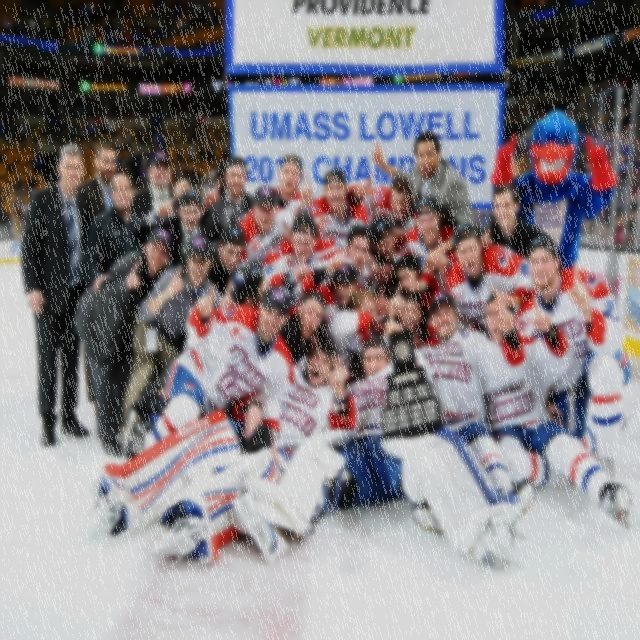pessoa: (228, 332, 524, 568), (90, 339, 362, 569), (482, 291, 640, 538), (121, 279, 295, 466), (411, 290, 536, 538), (515, 234, 632, 487), (486, 96, 640, 268), (70, 226, 174, 461), (119, 234, 222, 450), (19, 142, 92, 446), (370, 130, 482, 275), (72, 139, 122, 421), (442, 220, 532, 334), (76, 172, 146, 296), (261, 212, 345, 296), (128, 190, 214, 269), (296, 164, 370, 246), (398, 195, 459, 286), (478, 182, 552, 256), (236, 184, 296, 268), (129, 150, 181, 244), (311, 224, 378, 291), (177, 106, 230, 184), (301, 245, 358, 315), (200, 154, 256, 225), (280, 290, 328, 364), (268, 152, 319, 221), (114, 116, 162, 188), (62, 0, 132, 44), (12, 152, 59, 216), (48, 98, 114, 141), (208, 222, 246, 294), (162, 0, 221, 35), (387, 176, 419, 236), (2, 14, 63, 44), (368, 214, 403, 265), (373, 272, 408, 318), (594, 68, 640, 98), (395, 253, 423, 294), (0, 107, 28, 141), (131, 23, 163, 44), (374, 256, 396, 286), (0, 214, 16, 241), (618, 209, 626, 244), (18, 0, 32, 15)
